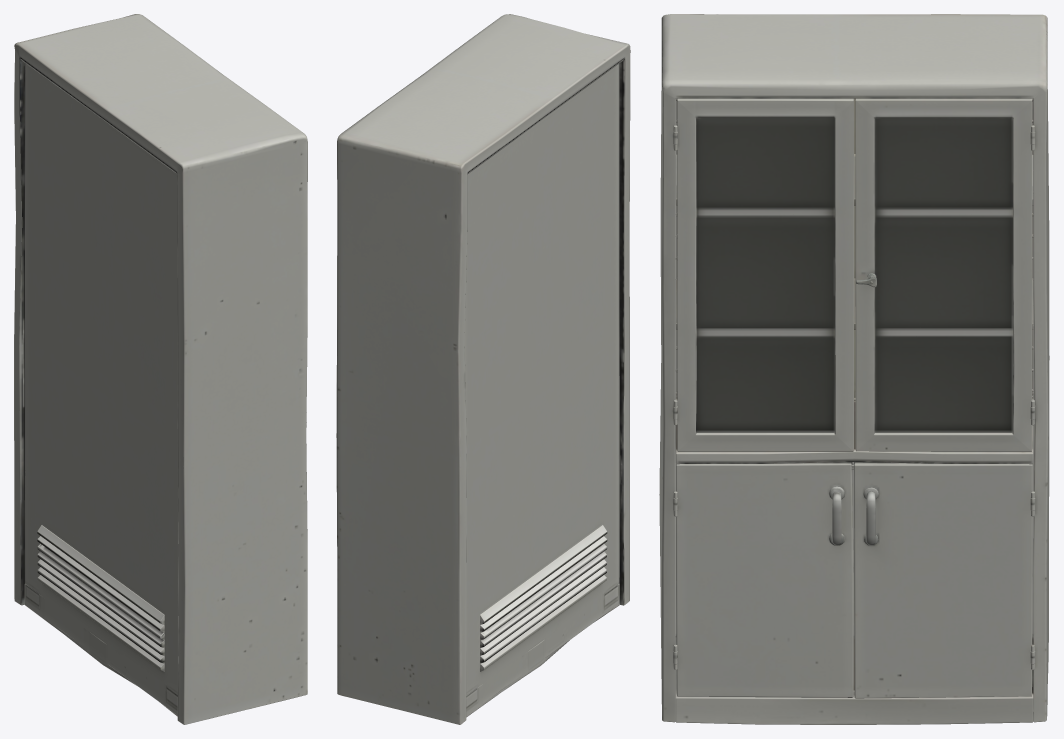
3 views of the same model, side by side, from view 1: azimuth 30°, elevation 25°; view 2: azimuth 150°, elevation 25°; view 3: azimuth 270°, elevation 25° (orthographic). The views are drawn at different scales.
Parts seen in each view (by area): view 1: tripo_node_ff53206d; view 2: tripo_node_ff53206d; view 3: tripo_node_ff53206d.
Boxes of the visible parts, bbox=[...] form: tripo_node_ff53206d: bbox=[14, 14, 307, 724]; tripo_node_ff53206d: bbox=[336, 14, 630, 724]; tripo_node_ff53206d: bbox=[659, 14, 1049, 724].
Size of the model in its own units: 0.2573 by 0.9995 by 0.5483.
1 material, 1 textured.
